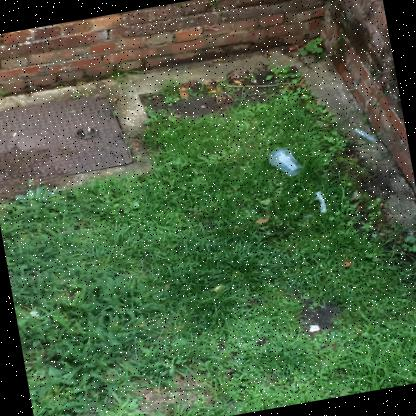Cigarette: (11, 133, 16, 136)
Disposable plastic cup: (269, 150, 303, 176)
Other plastic bottle: (316, 191, 326, 212)
Plastic lid: (268, 148, 288, 162)
Unlabeled litter: (354, 127, 376, 142)
